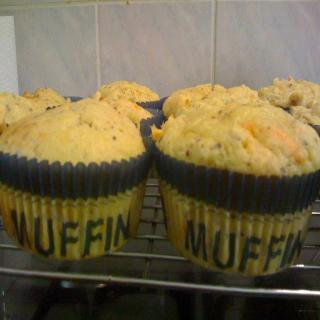Muffin: (0, 75, 320, 277), (0, 94, 154, 263), (98, 98, 163, 137), (0, 89, 47, 135), (95, 78, 162, 109), (21, 86, 78, 111)
